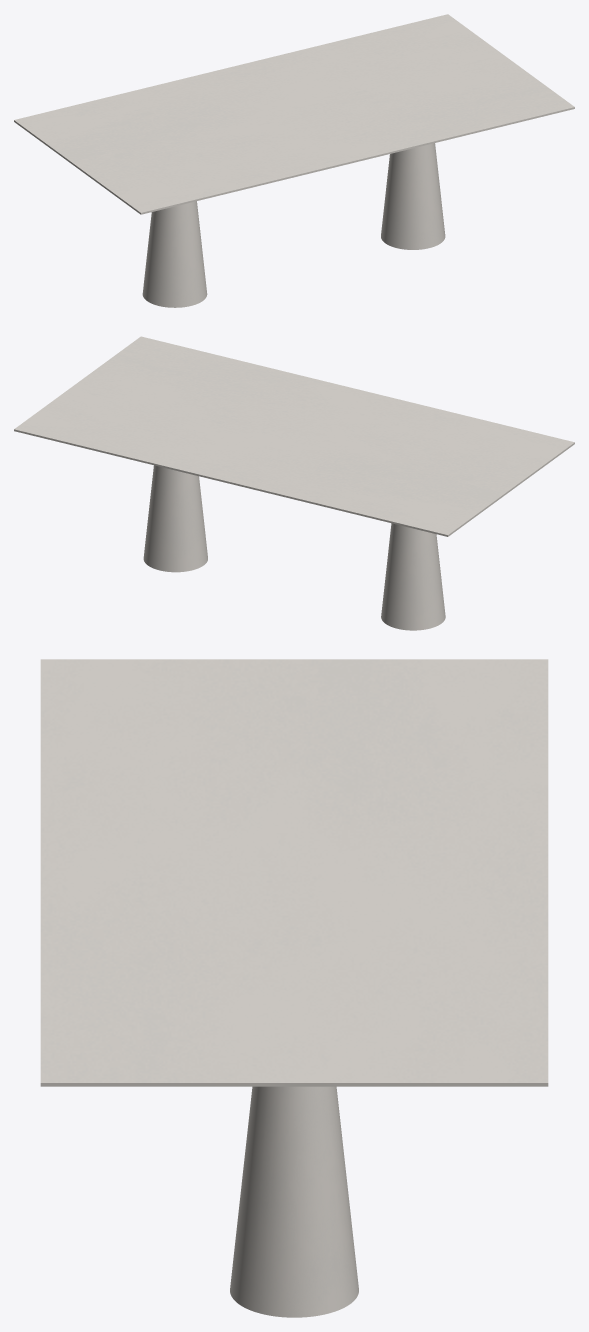
Rendered from purewhite_recta_facet_pebble.glb.
3 views of the same model, one above another, from view 1: azimuth 30°, elevation 25°; view 2: azimuth 150°, elevation 25°; view 3: azimuth 270°, elevation 25° (orthographic). The views are drawn at different scales.
Parts seen in each view (by area): view 1: facet_recta, pebble; view 2: facet_recta, pebble; view 3: facet_recta, pebble.
Part boxes in pixels (x1=…): facet_recta: x1=14, y1=14, x2=574, y2=214; pebble: x1=142, y1=143, x2=445, y2=307; facet_recta: x1=14, y1=336, x2=574, y2=536; pebble: x1=143, y1=465, x2=445, y2=630; facet_recta: x1=40, y1=659, x2=548, y2=1086; pebble: x1=230, y1=1086, x2=358, y2=1317.
Bounding box in the file's own units: 7.5 × 2.51 × 3.8.
1 material, 1 textured.
